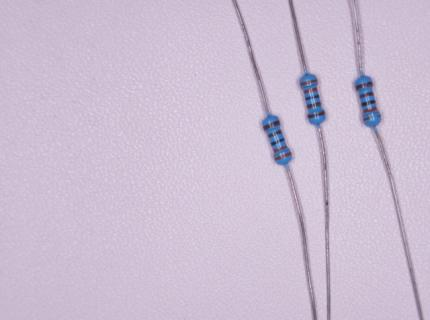Black band: (361, 100, 377, 108), (270, 138, 285, 146), (305, 94, 319, 101)
Brown band: (263, 120, 280, 130), (356, 81, 373, 90), (307, 111, 326, 119), (268, 130, 283, 138), (359, 91, 374, 99), (307, 101, 321, 109)
Orange band: (275, 151, 292, 161), (300, 79, 318, 86), (363, 114, 381, 121), (273, 145, 288, 153), (303, 87, 319, 94), (363, 107, 378, 113)
